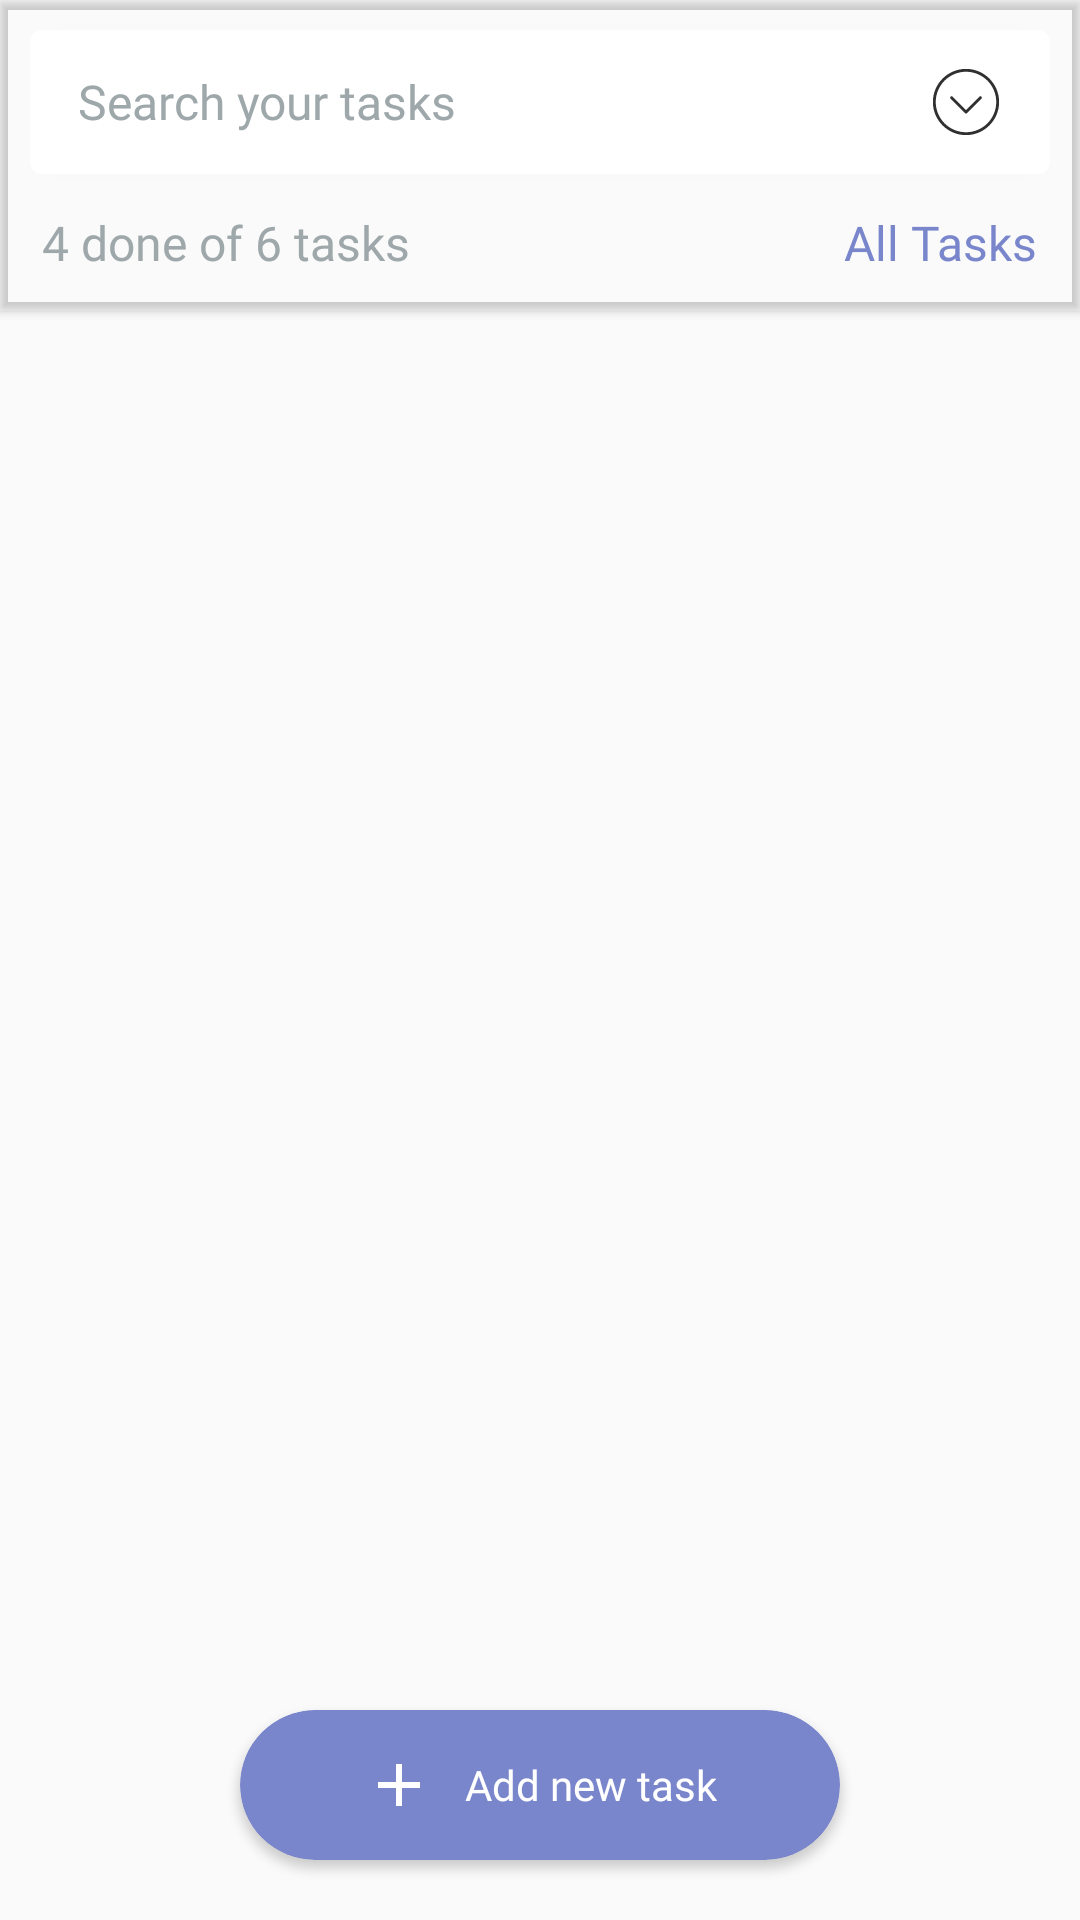

Named icons in this screenshot (1080*1920) and their centers, point (x, y):
more: point (966, 102)
